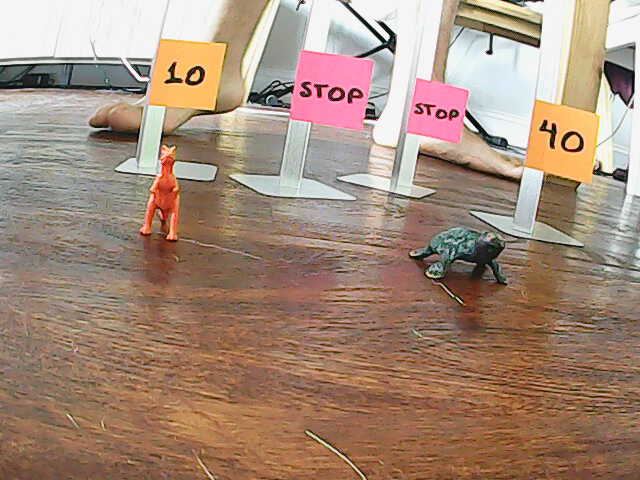10: (155, 49, 214, 103)
40: (531, 115, 596, 167)
dinosaur: (136, 141, 189, 247)
stop: (296, 62, 366, 117), (414, 91, 464, 125)
turtle: (409, 224, 511, 287)
